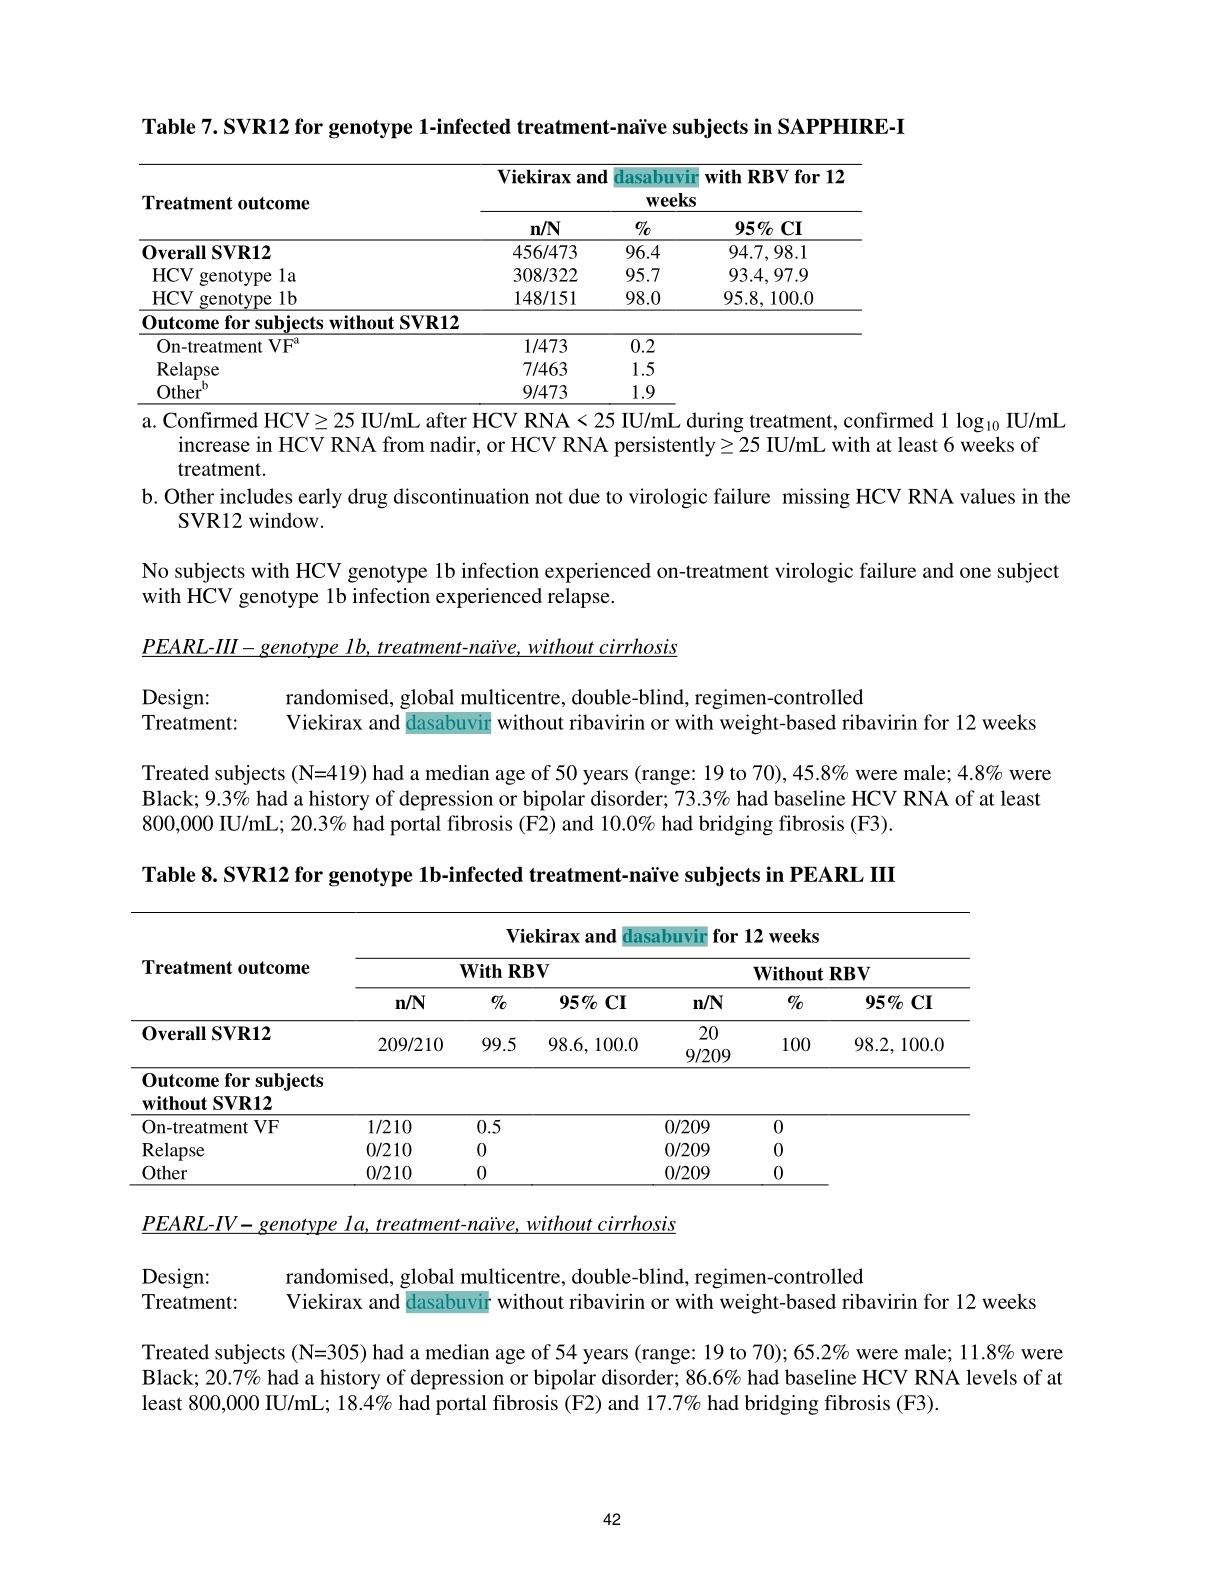partial_lined_merged_cells: (129, 909, 973, 1189), (136, 162, 863, 408)
